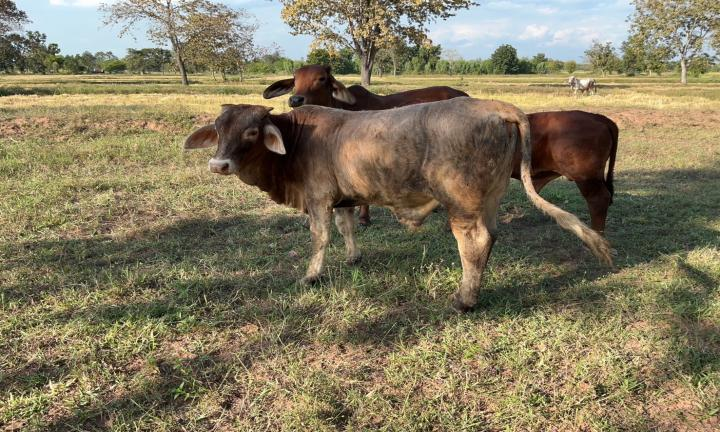Charolais: (184, 97, 611, 310)
